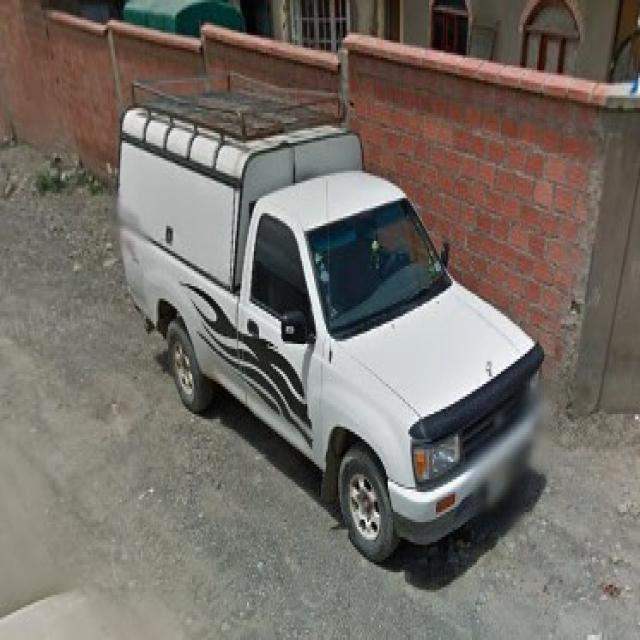car: (115, 84, 551, 534)
